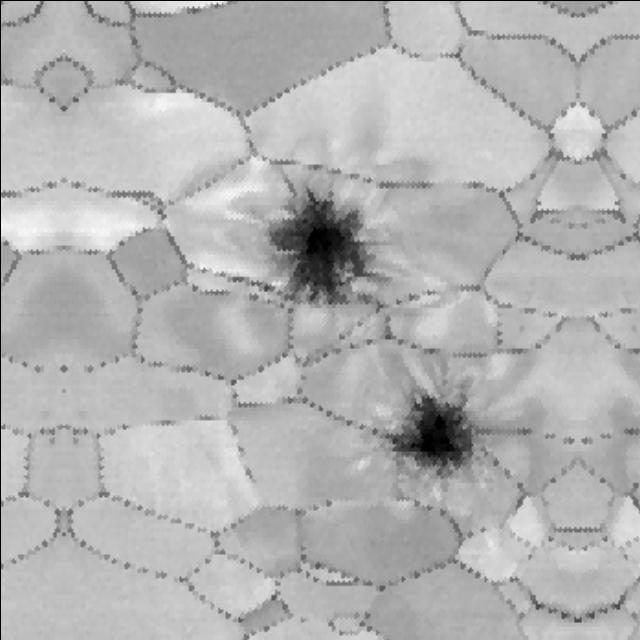good_void: (347, 358, 517, 528), (260, 178, 379, 317)
